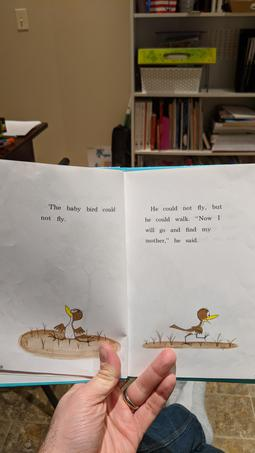text block: (135, 200, 227, 248), (32, 197, 120, 226)
